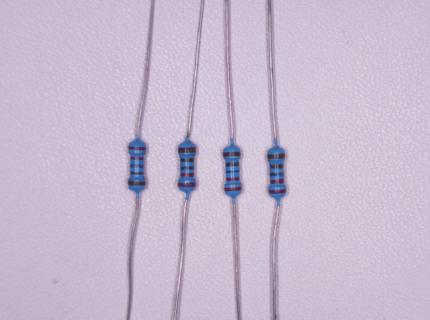Black band: (270, 172, 284, 176), (180, 166, 194, 170), (130, 163, 144, 167), (226, 170, 239, 173)
Brown band: (267, 153, 286, 159), (178, 147, 196, 153), (128, 180, 146, 185), (223, 152, 241, 157), (180, 157, 194, 162), (270, 164, 283, 169), (130, 171, 144, 175), (226, 162, 239, 166)
Red band: (178, 182, 196, 187), (268, 189, 286, 194), (223, 187, 242, 191), (128, 146, 146, 150), (270, 179, 284, 184), (130, 156, 145, 160), (180, 173, 194, 177), (226, 177, 240, 181)
